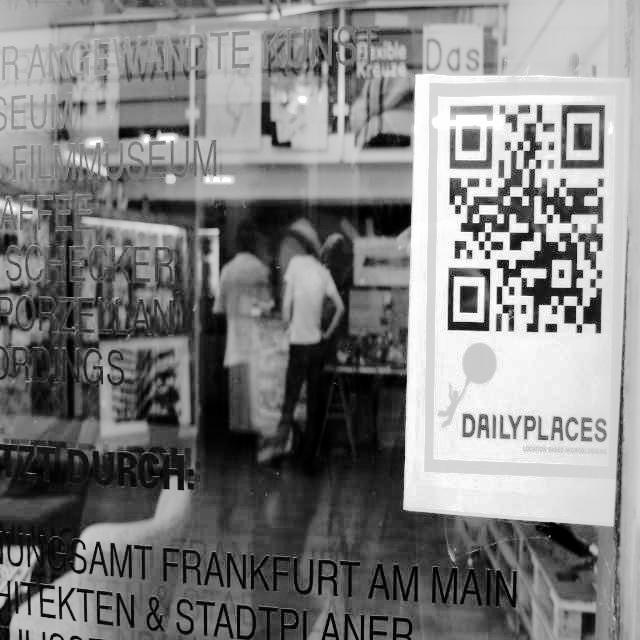qr_code: (447, 105, 605, 334)
